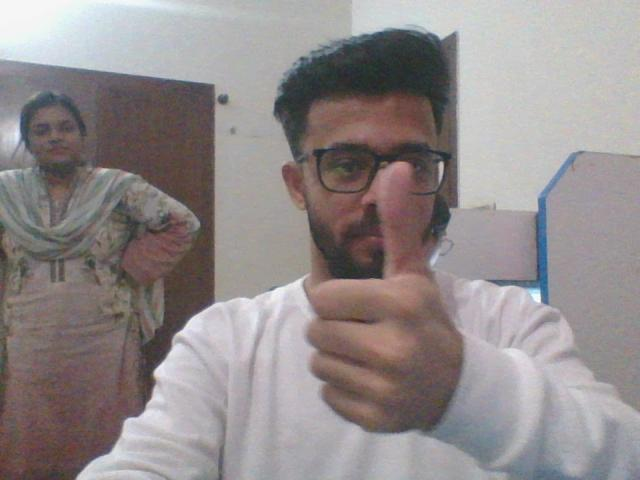thumbs-up: (306, 161, 459, 441)
